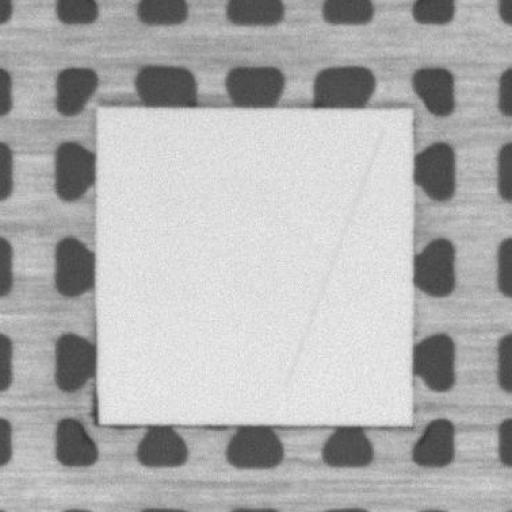DIE_CRACK: (284, 129, 381, 386)
